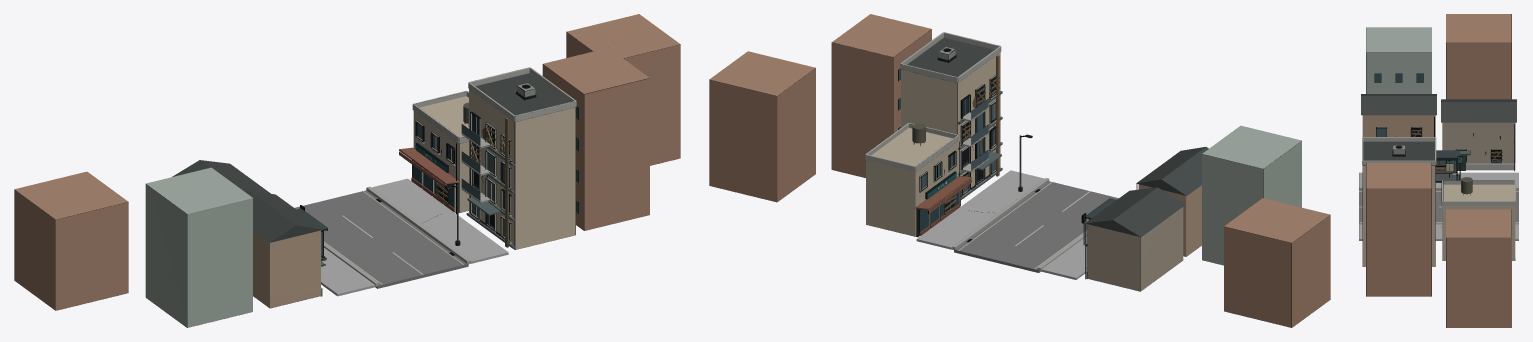
The model's file is city_hd_22.glb.
3 renders of one model, left to right at view 1: azimuth 30°, elevation 25°; view 2: azimuth 150°, elevation 25°; view 3: azimuth 270°, elevation 25°, orthographic. The views are drawn at different scales.
Parts seen in each view (by area): view 1: Architectural lettering, CITY_PBR_asphalt, CITY_PBR_pavement, CITY_curb; view 2: Architectural lettering, CITY_PBR_asphalt, CITY_PBR_pavement, CITY_curb; view 3: Architectural lettering, CITY_PBR_pavement, CITY_PBR_asphalt.
Boxes of the visible parts, bbox=[...] form: Architectural lettering: bbox=[14, 14, 680, 327]; CITY_PBR_asphalt: bbox=[294, 190, 468, 288]; CITY_PBR_pavement: bbox=[321, 178, 508, 296]; CITY_curb: bbox=[324, 186, 470, 286]; Architectural lettering: bbox=[709, 14, 1330, 327]; CITY_PBR_asphalt: bbox=[954, 181, 1118, 272]; CITY_PBR_pavement: bbox=[916, 170, 1087, 279]; CITY_curb: bbox=[952, 178, 1087, 271]; Architectural lettering: bbox=[1361, 14, 1516, 327]; CITY_PBR_pavement: bbox=[1359, 172, 1518, 240]; CITY_PBR_asphalt: bbox=[1359, 190, 1518, 221].
Bounding box in the file's own units: 57.3 × 12.41 × 16.
Materials: 6 (1 with a texture image).
